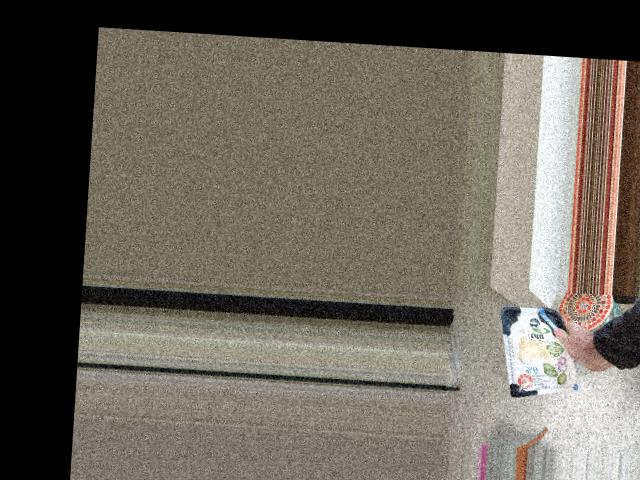cheese: (519, 321, 594, 393)
